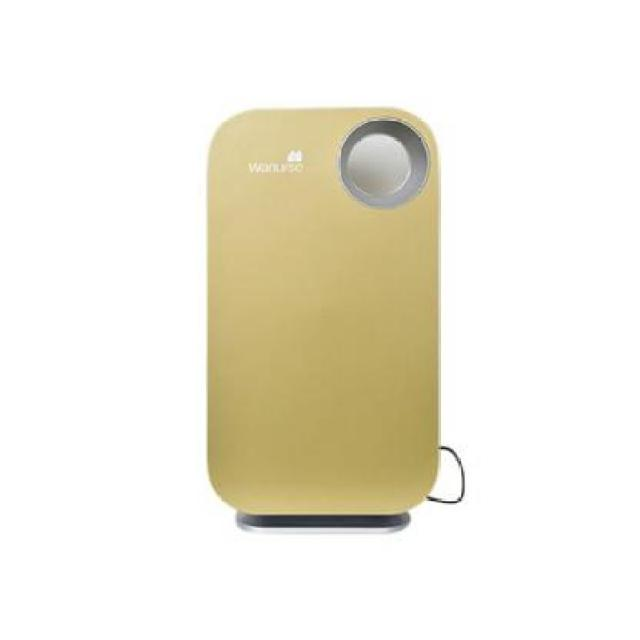cooler: (198, 98, 447, 540)
